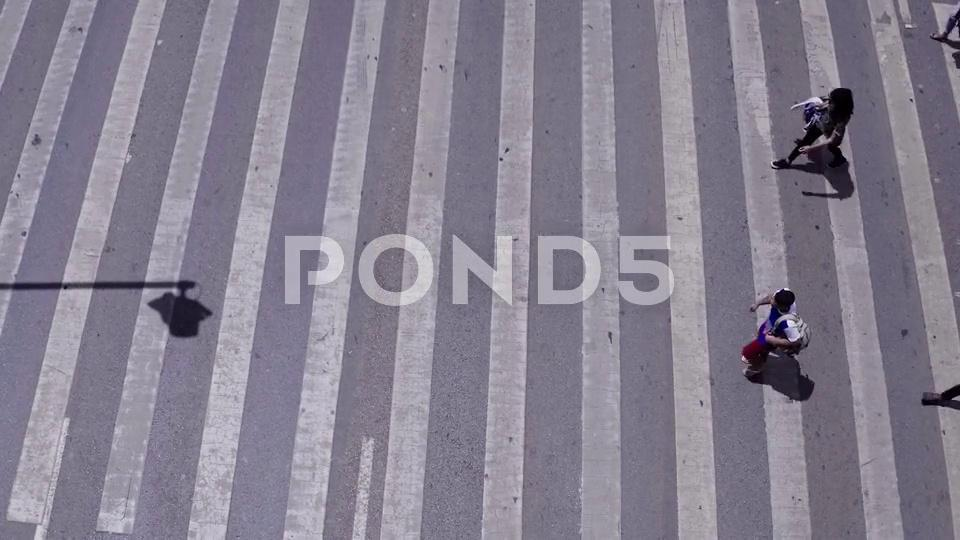person: (773, 91, 860, 179), (742, 291, 812, 387)
